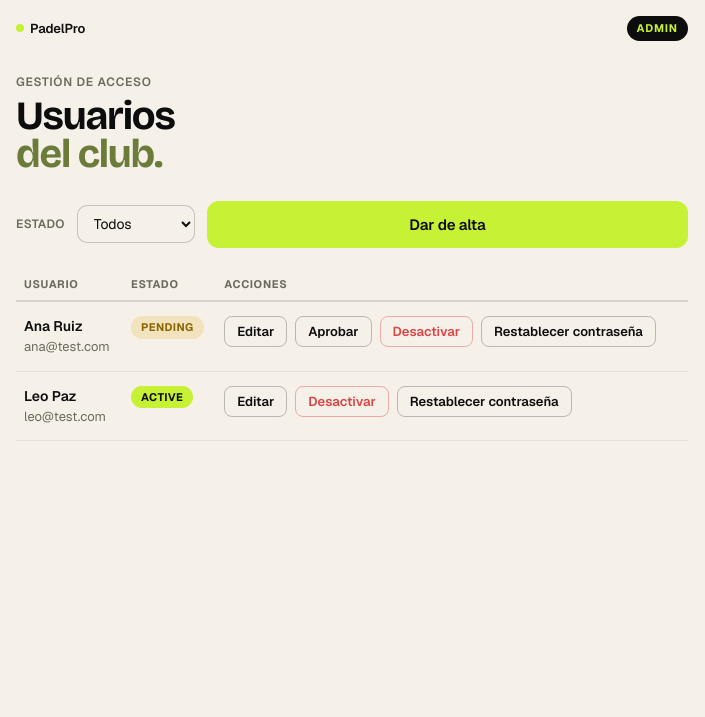
AdminUsuariosPage › 6.4 — reset shows the temporary password exactly once with a warning
Click the button "Restablecer contraseña" in the row of "Paz".
click(484, 401)  # box [397,386,572,416]
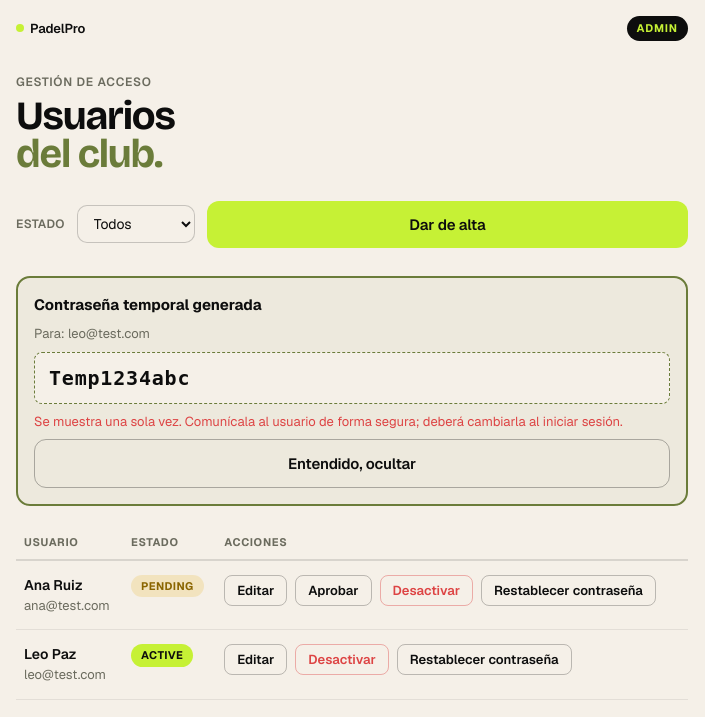
Expected: the text "Temp1234abc" is shown, [34,352,670,404]
